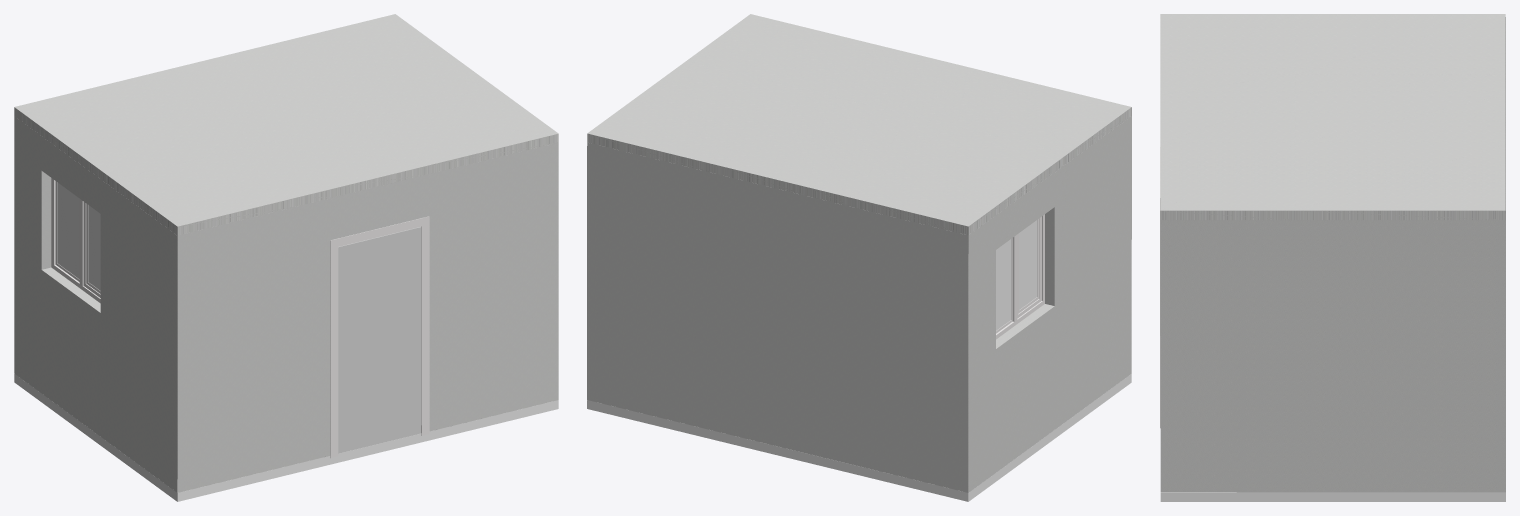
The model's file is FloorPlan407_physics.fbx.
3 renders of one model, left to right at view 1: azimuth 30°, elevation 25°; view 2: azimuth 150°, elevation 25°; view 3: azimuth 270°, elevation 25°, orthographic. The views are drawn at different scales.
Visible parts, largest first — view 1: FP407:Walls, FP407:Ceiling, FP407:Door.004, FP407:Floor, FP407:DoorFrame.004, FP407:polySurface256, FP407:polySurface255; view 2: FP407:Walls, FP407:Ceiling, FP407:Floor, FP407:polySurface256, FP407:polySurface255; view 3: FP407:Walls, FP407:Ceiling, FP407:Floor.
Part boxes in pixels (box(x1,y1,x2,y2)): FP407:Walls: box(14, 116, 558, 492); FP407:Ceiling: box(14, 14, 558, 235); FP407:Door.004: box(338, 227, 421, 453); FP407:Floor: box(14, 373, 558, 501); FP407:DoorFrame.004: box(330, 216, 429, 457); FP407:polySurface256: box(57, 182, 100, 290); FP407:polySurface255: box(51, 178, 100, 303); FP407:Walls: box(587, 116, 1131, 492); FP407:Ceiling: box(587, 14, 1131, 235); FP407:Floor: box(587, 374, 1131, 501); FP407:polySurface256: box(996, 220, 1037, 330); FP407:polySurface255: box(996, 214, 1044, 339); FP407:Walls: box(1160, 220, 1505, 492); FP407:Ceiling: box(1160, 14, 1505, 220); FP407:Floor: box(1160, 492, 1505, 501).
Size of the model in its own units: 385 by 266 by 286.
